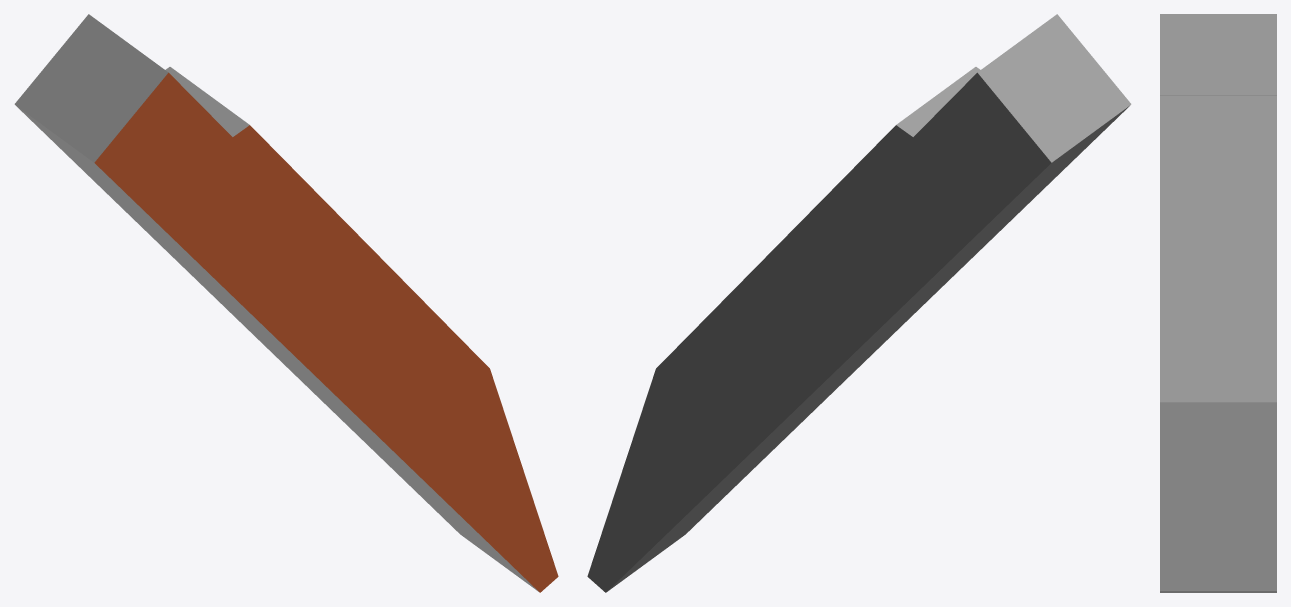
The model's file is construction_6388_assumed_A_Casa_h6m.obj.
The picture shows the model from 3 angles, left to right: view 1: azimuth 30°, elevation 25°; view 2: azimuth 150°, elevation 25°; view 3: azimuth 270°, elevation 25°; orthographic projection. The views are drawn at different scales.
Visible parts, largest first — view 1: construction_6388_assumed_A_Casa; view 2: construction_6388_assumed_A_Casa; view 3: construction_6388_assumed_A_Casa.
Boxes of the visible parts, box(x1,y1,x2,y2) form: construction_6388_assumed_A_Casa: box(14, 14, 558, 592); construction_6388_assumed_A_Casa: box(587, 14, 1131, 592); construction_6388_assumed_A_Casa: box(1160, 14, 1276, 592).
Bounding box in the file's own units: 20.12 × 25.31 × 6.
